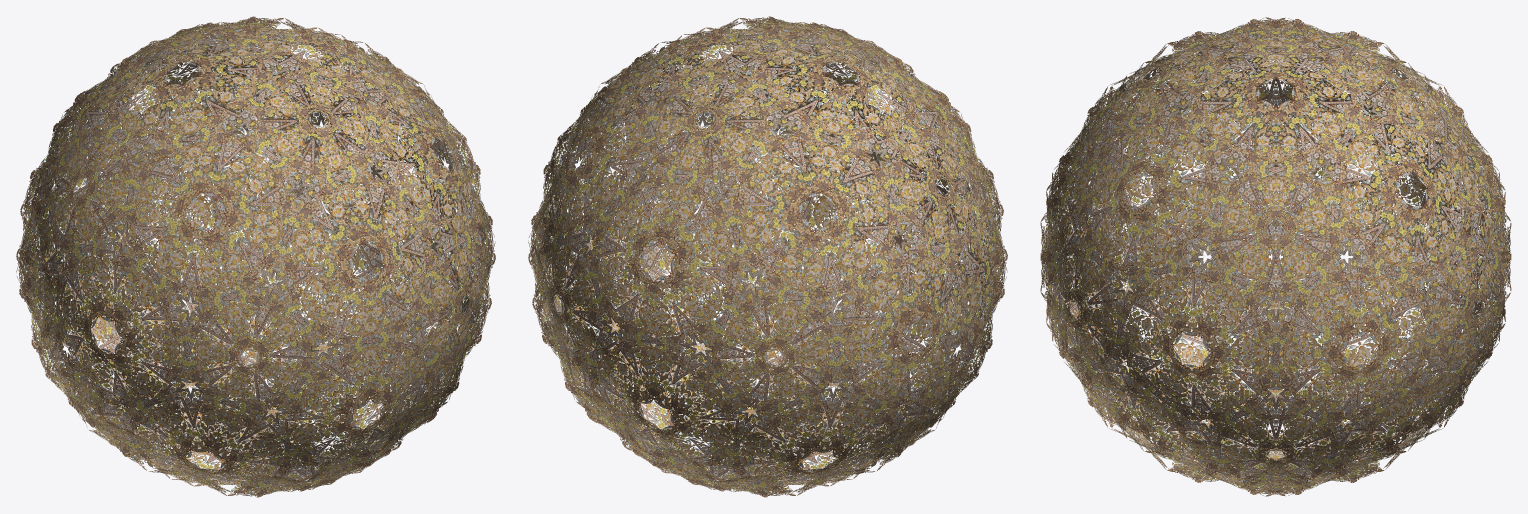
Rendered from SmallHexagonalHexecontahedron13.gltf.
The picture shows the model from 3 angles, left to right: view 1: azimuth 30°, elevation 25°; view 2: azimuth 150°, elevation 25°; view 3: azimuth 270°, elevation 25°; orthographic projection.
Parts seen in each view (by area): view 1: SmallHexagonalHexecontahedron; view 2: SmallHexagonalHexecontahedron; view 3: SmallHexagonalHexecontahedron.
Part boxes in pixels (bbox=[...]): SmallHexagonalHexecontahedron: bbox=[16, 16, 495, 497]; SmallHexagonalHexecontahedron: bbox=[528, 16, 1007, 497]; SmallHexagonalHexecontahedron: bbox=[1040, 17, 1511, 496].
Size of the model in its own units: 2.73 by 2.73 by 2.73.
1 material, 1 textured.
